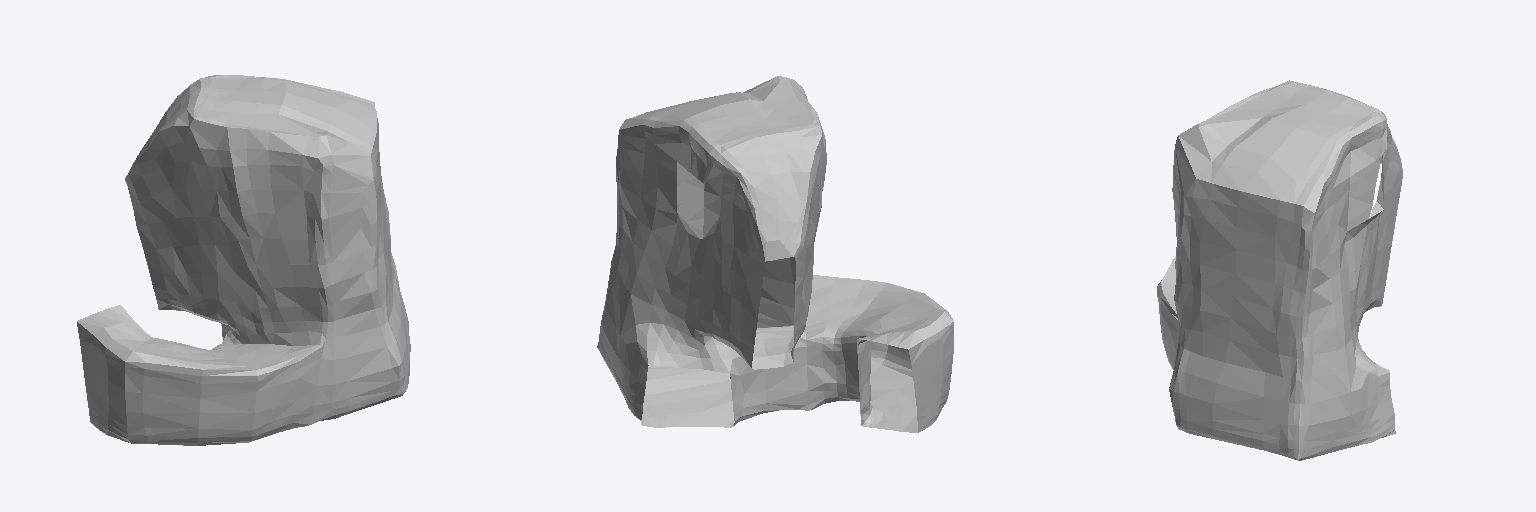
Rendered from Env3UV_low.obj.
3 views of the same model, side by side, from view 1: azimuth 30°, elevation 25°; view 2: azimuth 150°, elevation 25°; view 3: azimuth 270°, elevation 25° (orthographic).
Parts seen in each view (by area): view 1: Env3UV_low3:ZBrush_defualt_group1; view 2: Env3UV_low3:ZBrush_defualt_group1; view 3: Env3UV_low3:ZBrush_defualt_group1.
Boxes of the visible parts, <box> form: Env3UV_low3:ZBrush_defualt_group1: <box>77,75,410,445</box>; Env3UV_low3:ZBrush_defualt_group1: <box>597,76,953,432</box>; Env3UV_low3:ZBrush_defualt_group1: <box>1157,80,1402,460</box>.
Size of the model in its own units: 102 by 89.21 by 66.97.